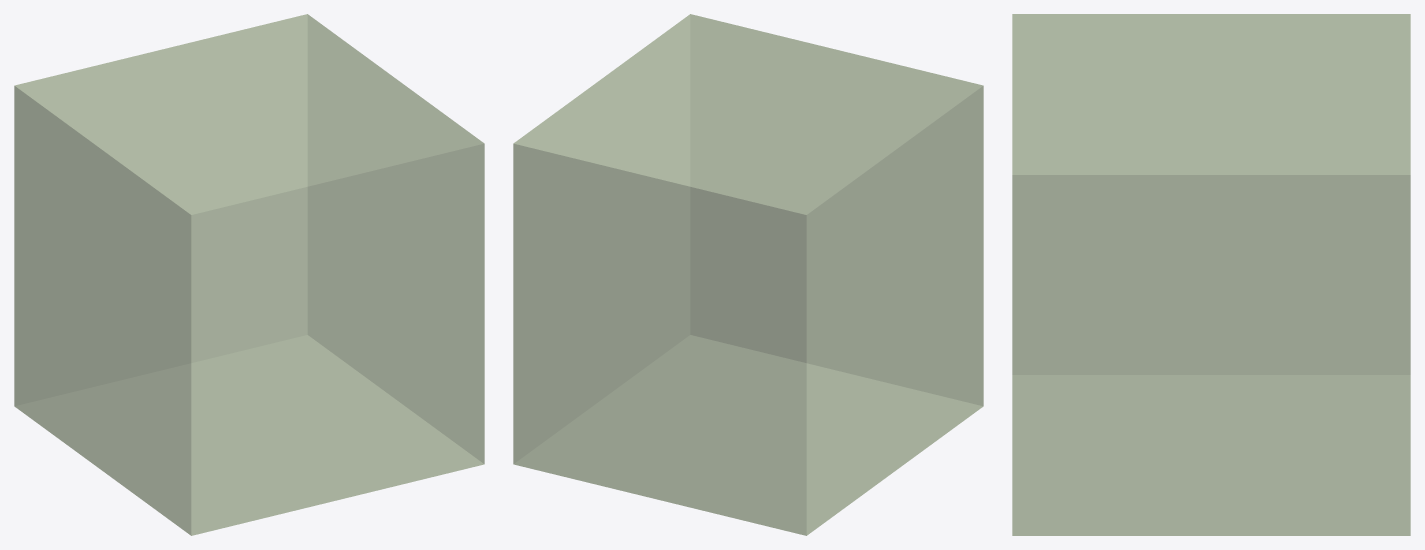
The model's file is blockout.glb.
The picture shows the model from 3 angles, left to right: view 1: azimuth 30°, elevation 25°; view 2: azimuth 150°, elevation 25°; view 3: azimuth 270°, elevation 25°; orthographic projection. The views are drawn at different scales.
Visible parts, largest first — view 1: U15_ENVELOPE_NOT_FINAL_MESH; view 2: U15_ENVELOPE_NOT_FINAL_MESH; view 3: U15_ENVELOPE_NOT_FINAL_MESH.
Boxes of the visible parts, x1,y1,x2,y2 form: U15_ENVELOPE_NOT_FINAL_MESH: (14,14,484,535); U15_ENVELOPE_NOT_FINAL_MESH: (513,14,983,535); U15_ENVELOPE_NOT_FINAL_MESH: (1012,14,1410,535).
Bounding box in the file's own units: 2.2 × 2.3 × 2.3.
